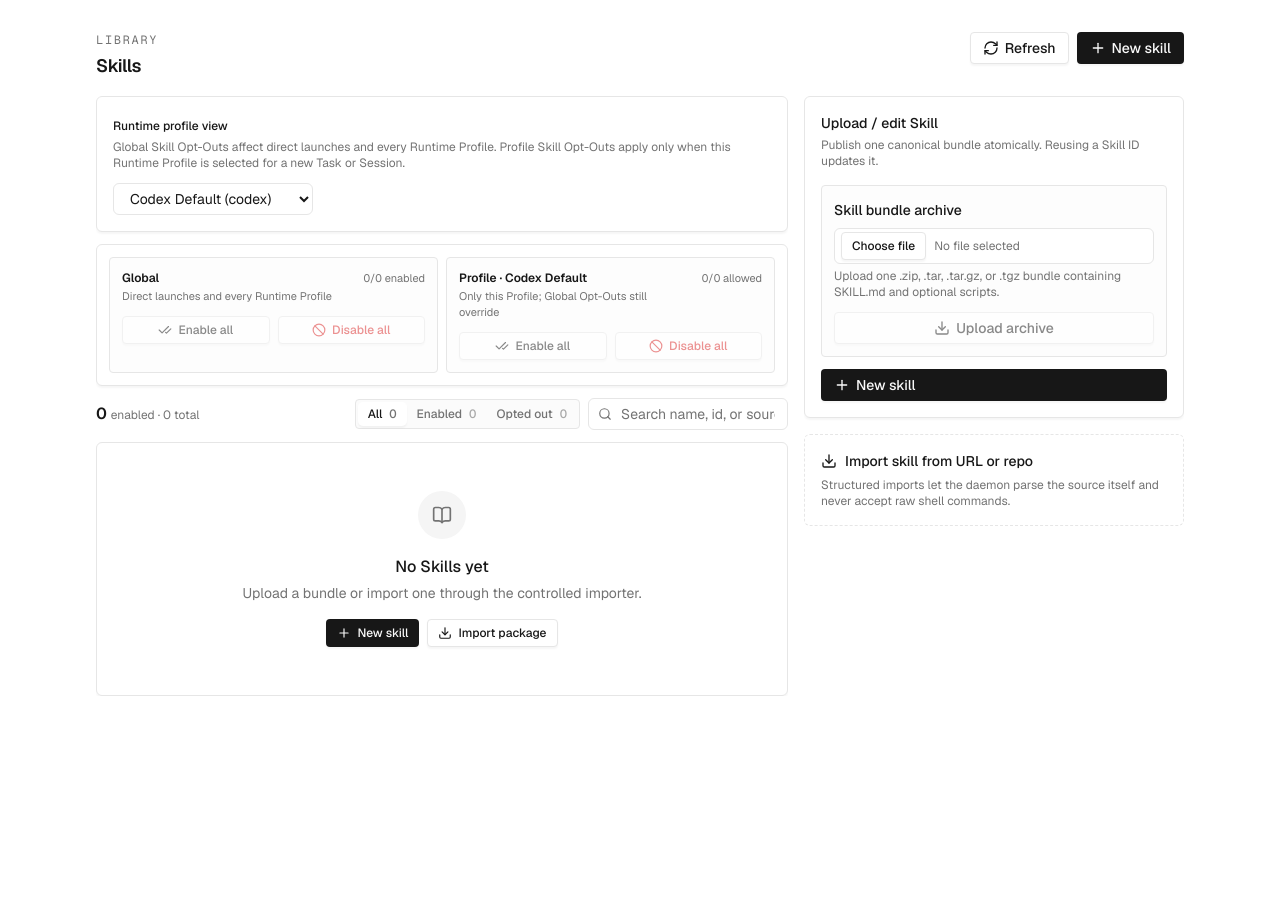
Test: SkillsPage › keeps the create form collapsed until New skill is chosen
Expected: the heading "Upload / edit Skill" is shown, [821,113,938,133]
Click the button "New skill" in the row of "Library".
click(1130, 48)  # box [1077,32,1184,64]
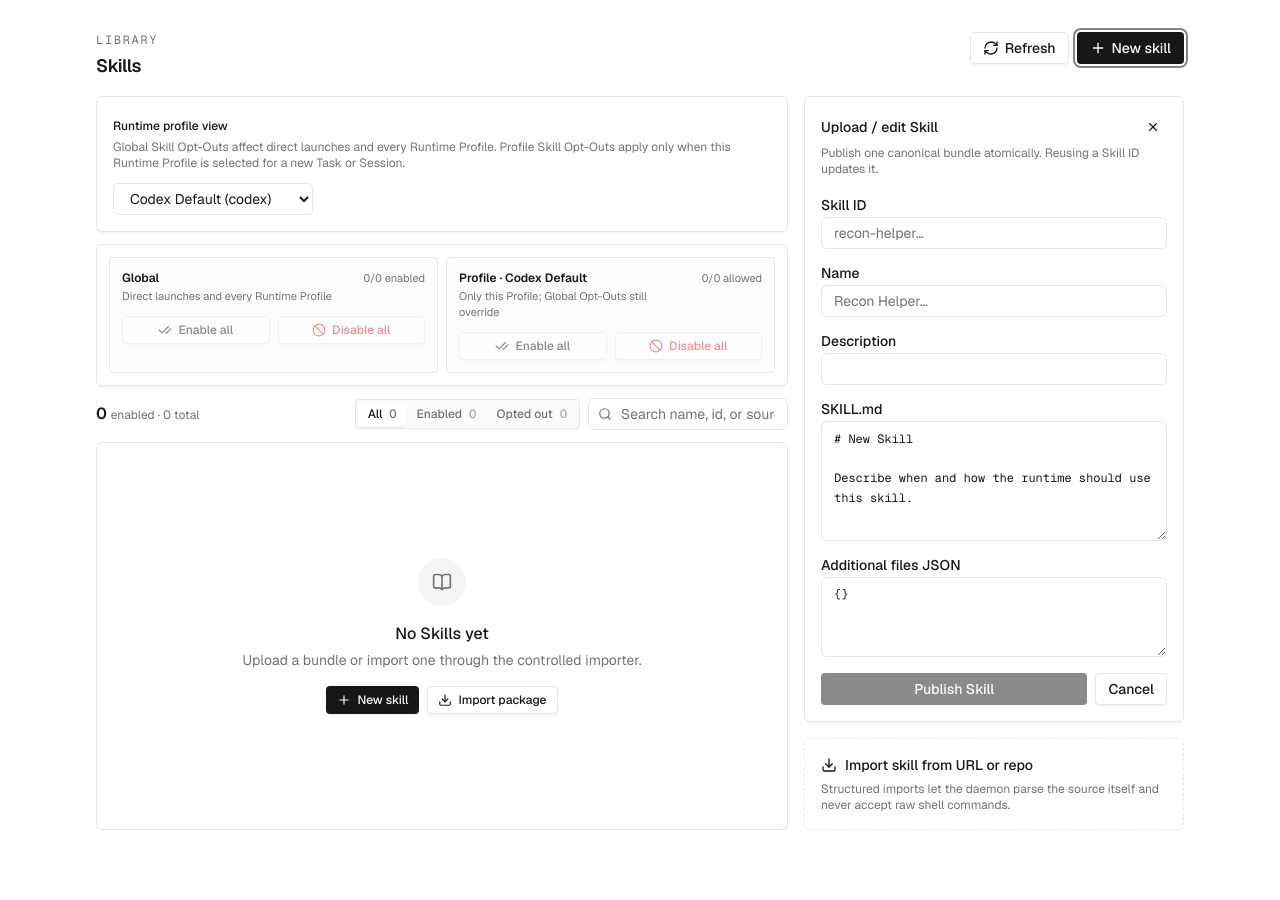
Expected: the heading "Upload / edit Skill" is shown, [821,117,938,137]
Now the field labelled "Skill ID" is shown, box [821,217,1167,249]
Now the button "Publish Skill" is shown, box [821,673,1087,705]
